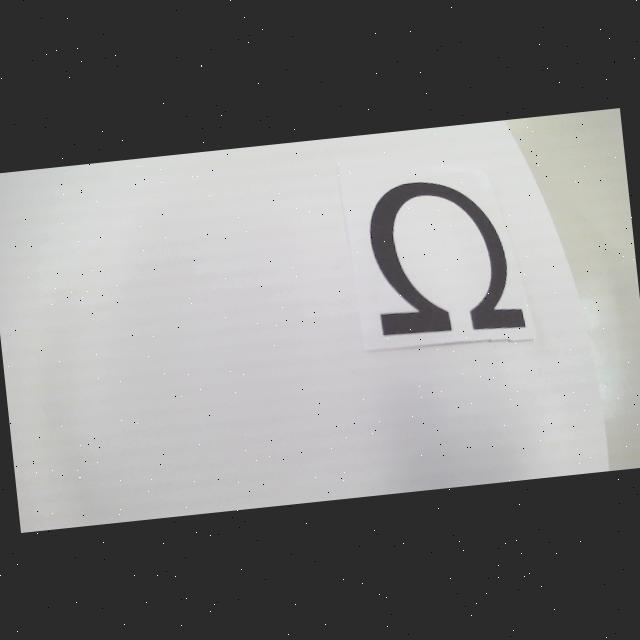OMEGA: (364, 170, 526, 342)
